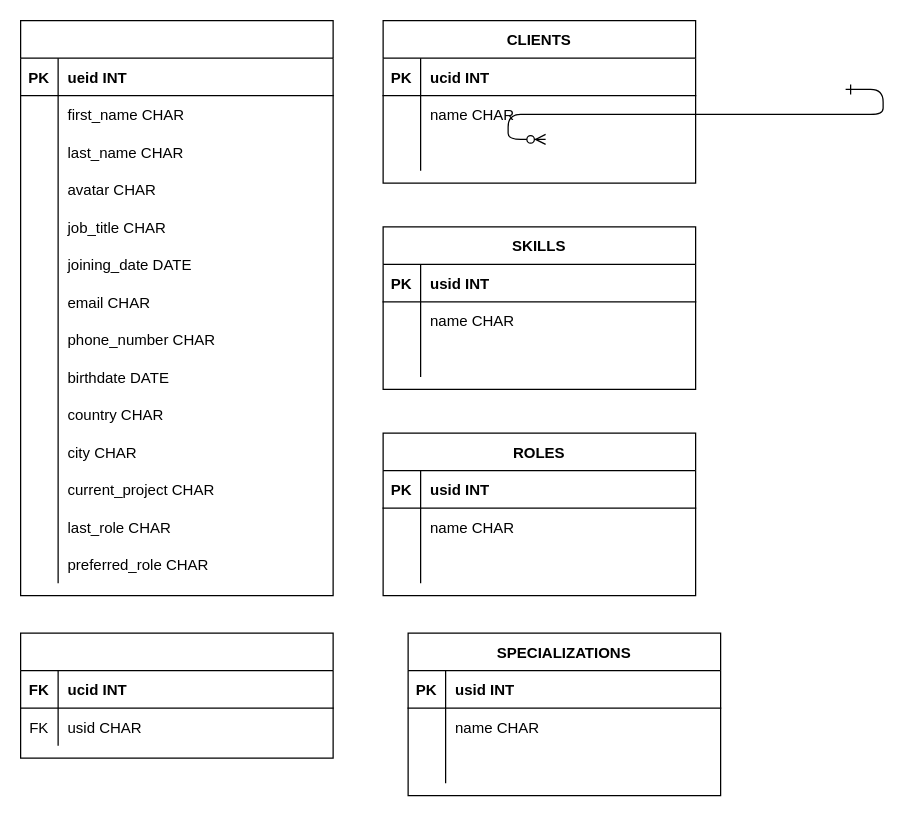
This 904x816 diagram has some shape labels left out. Here are the shapes that lost their labels. From the top down, the box of each, then its label:
(19, 19, 333, 596): EMPLOYEES
(19, 632, 333, 758): EMPLOYEES_SKILLS
